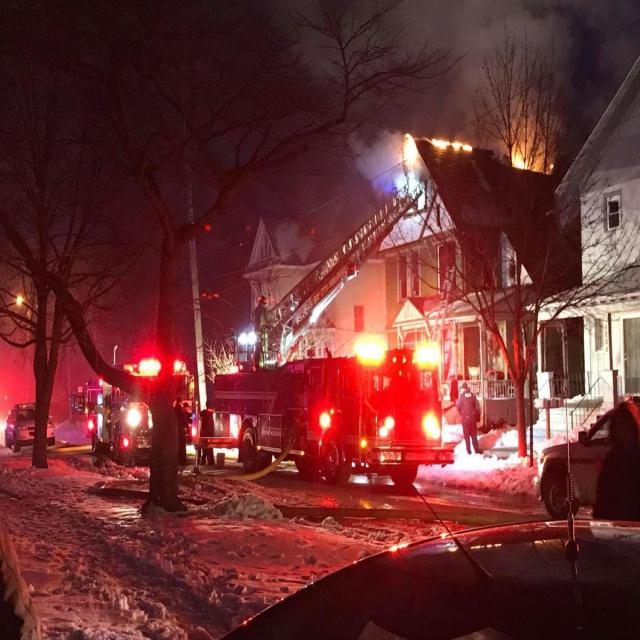fire: (390, 116, 480, 166), (504, 134, 558, 176)
other: (345, 322, 393, 370), (411, 332, 446, 372), (371, 408, 403, 448), (130, 351, 168, 381), (418, 408, 446, 447), (314, 402, 337, 443), (120, 401, 146, 429), (234, 328, 262, 349)
